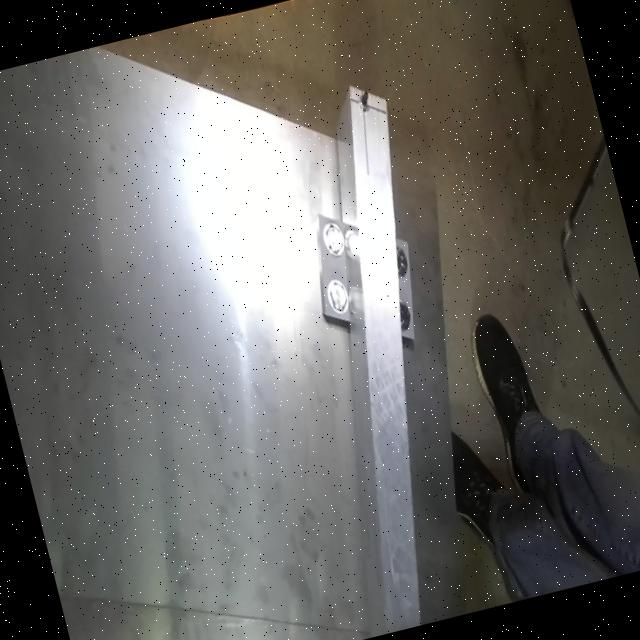blocks: (288, 192, 432, 362)
